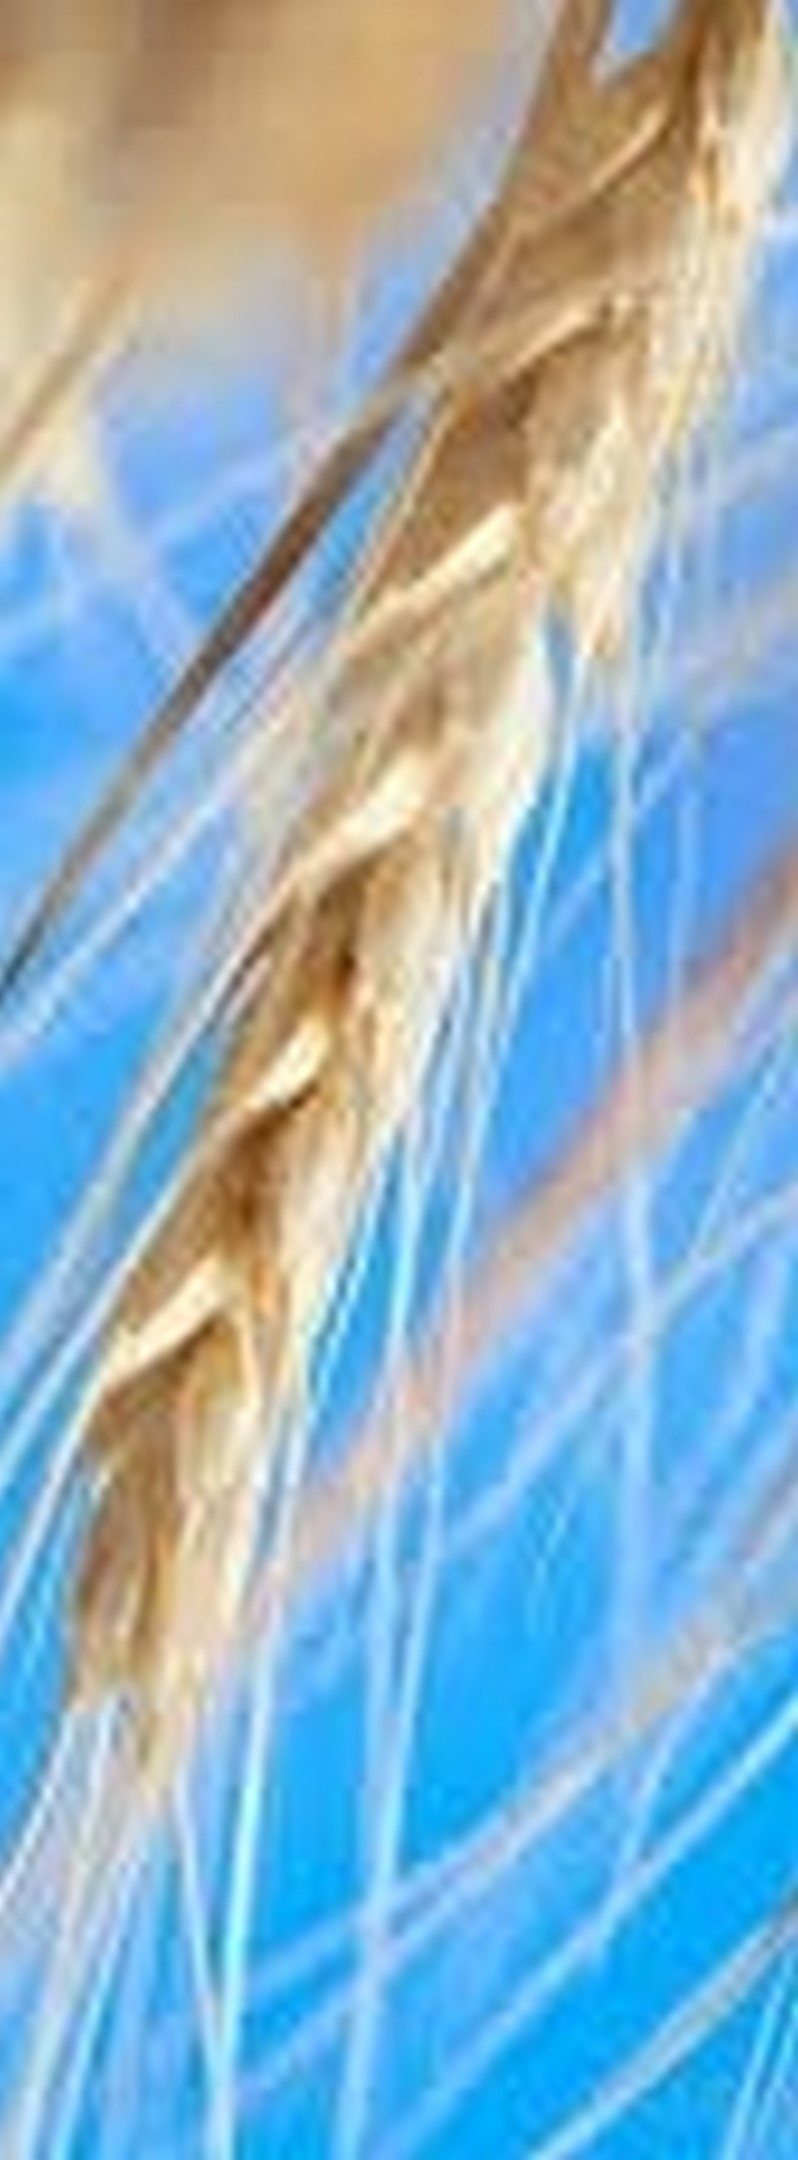Healthy Wheat: (28, 176, 744, 1732)
